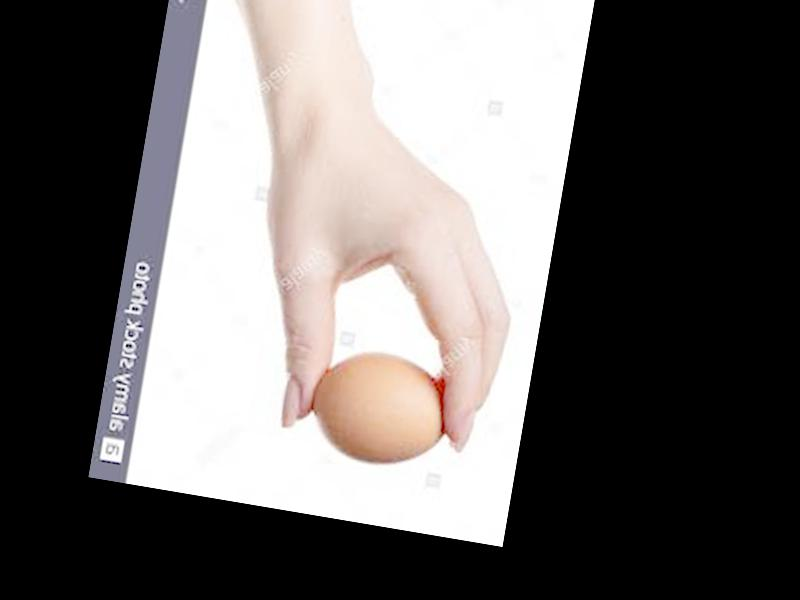Eggs: (307, 340, 455, 473)
